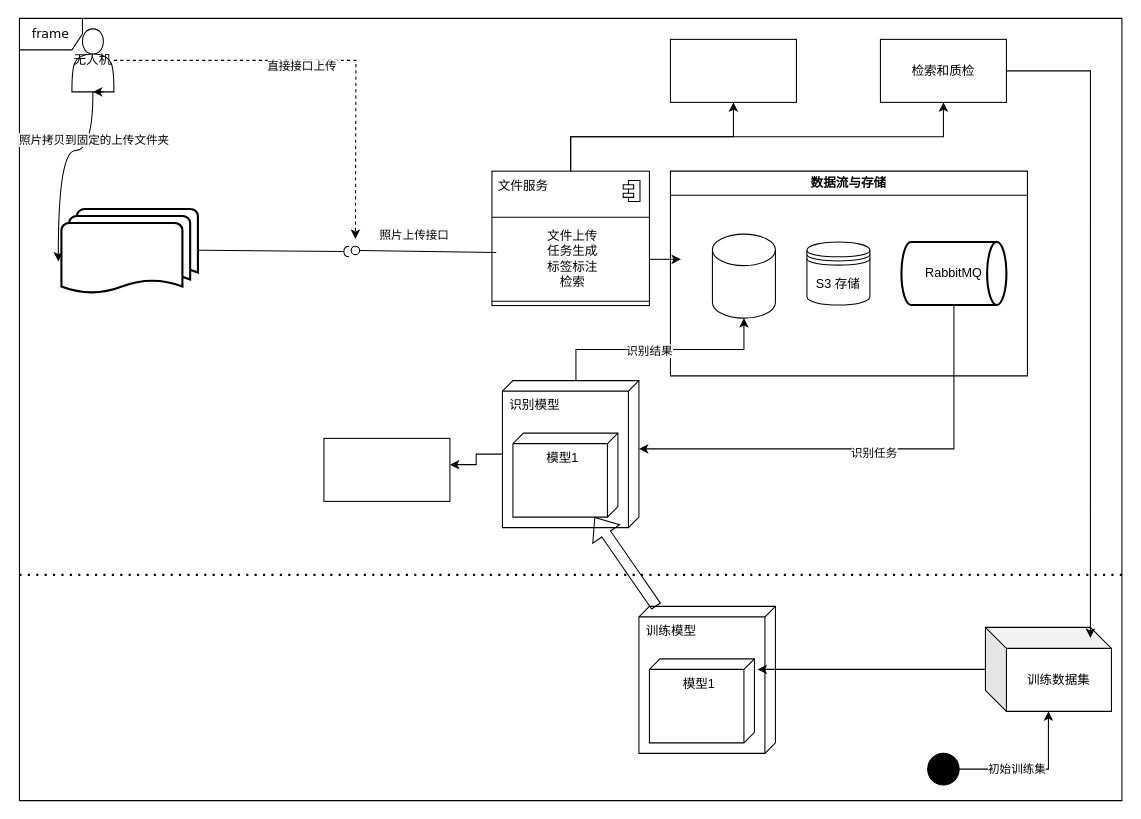
The diagram is 1141 pixels wide and 819 high, and some of its shapes have lost their labels. Each missing label, with the centre of its shape:
前端结果展示，查询: the point at 732,70
数据库: the point at 743,275
文件夹监控上传: the point at 129,251
通知与警告: the point at 386,469
